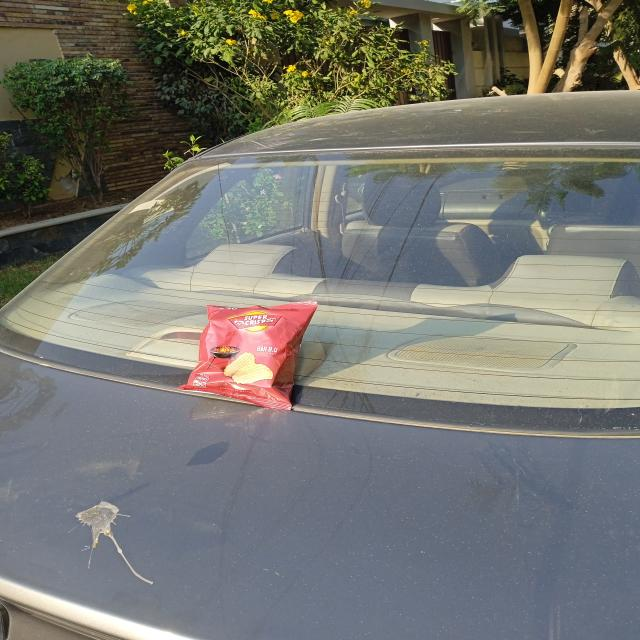Plastic: (176, 296, 326, 418)
